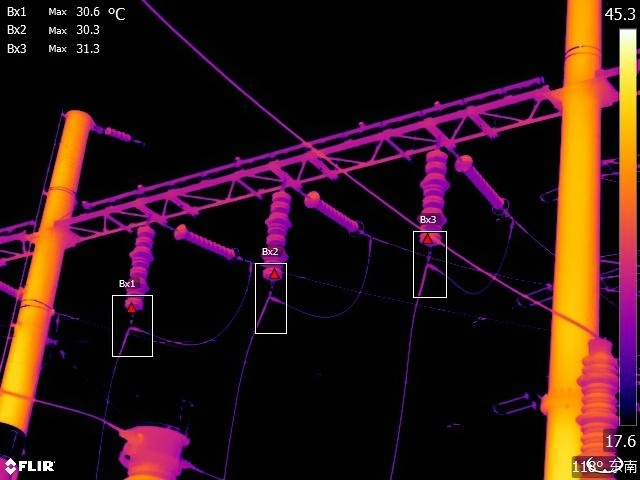clamp: (121, 315, 143, 338), (416, 257, 443, 275), (361, 228, 380, 250), (262, 291, 283, 309), (503, 212, 521, 232), (242, 254, 257, 275)
current transformer: (105, 387, 203, 480)
insulator: (412, 144, 449, 260), (119, 221, 161, 323), (456, 147, 515, 219), (258, 189, 295, 290), (171, 217, 241, 267), (303, 186, 359, 237), (100, 125, 139, 144)
post insulator: (561, 329, 619, 480)
